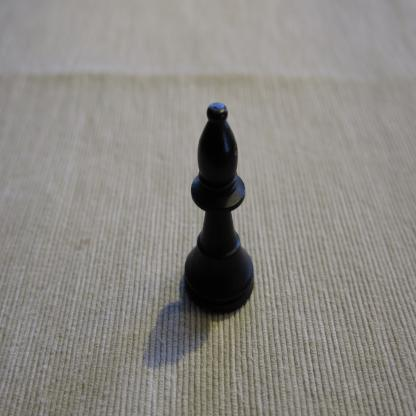black-bishop: (184, 100, 254, 317)
